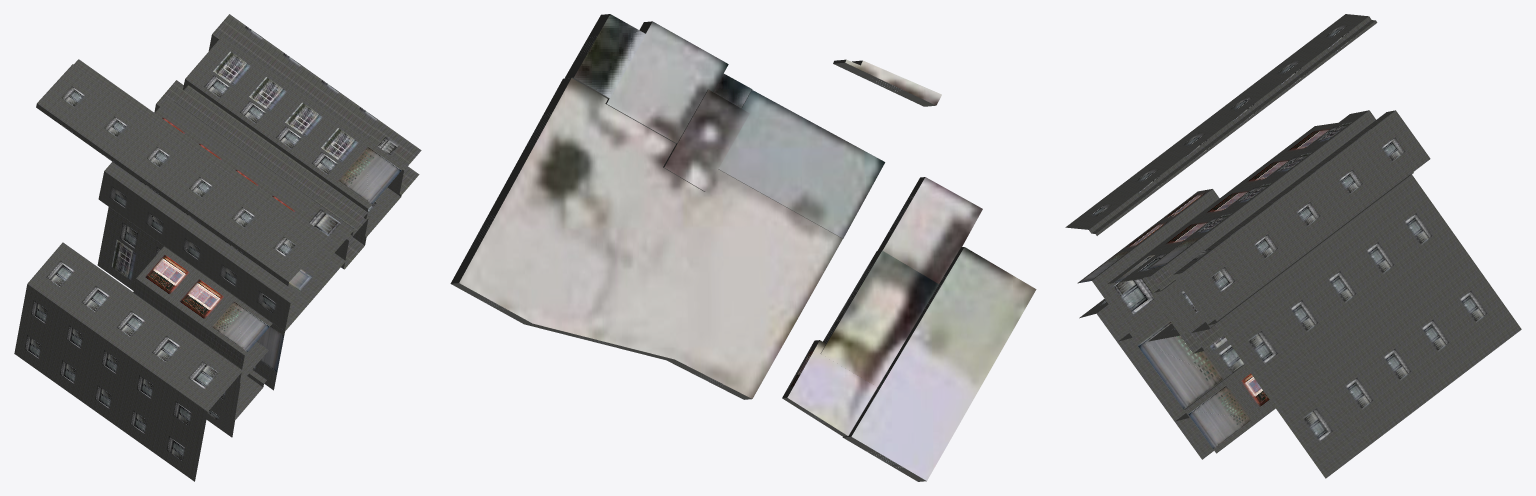
3 views of the same model, side by side, from view 1: azimuth 30°, elevation 25°; view 2: azimuth 150°, elevation 25°; view 3: azimuth 270°, elevation 25° (orthographic). The views are drawn at different scales.
Size of the model in its own units: 30.48 by 27.13 by 26.36.
40 materials, 40 textured.
